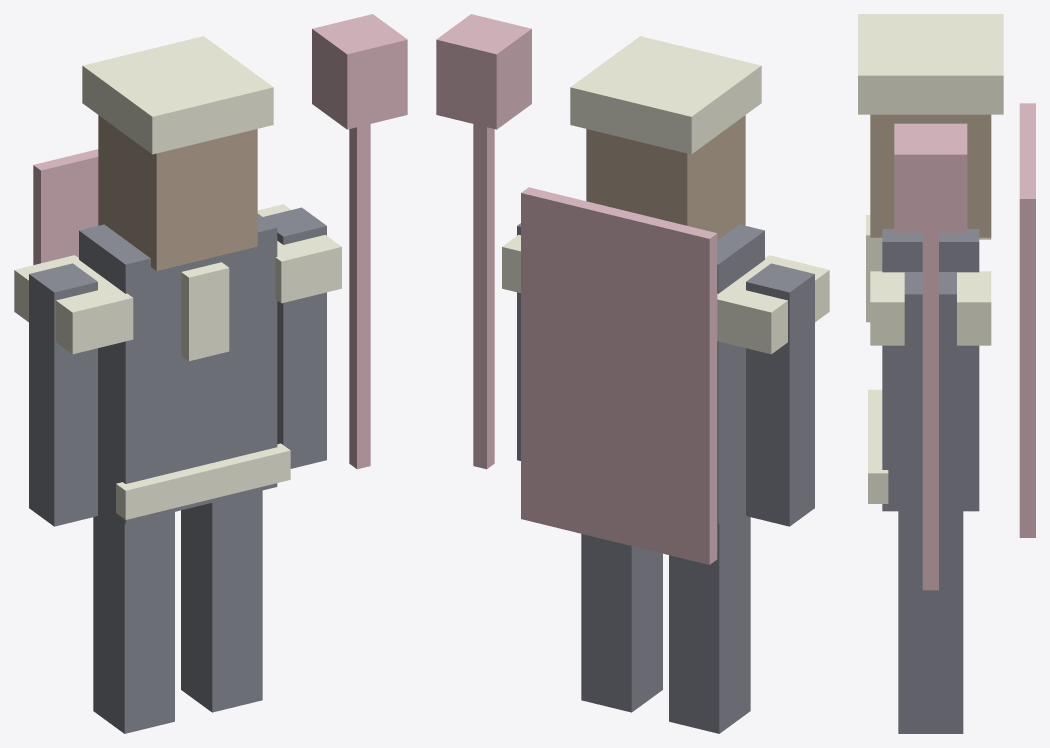
Rendered from 13_makoa_nullborne_scout_at_upper.glb.
3 renders of one model, left to right at view 1: azimuth 30°, elevation 25°; view 2: azimuth 150°, elevation 25°; view 3: azimuth 270°, elevation 25°, orthographic. The views are drawn at different scales.
Parts seen in each view (by area): view 1: Makoa Nullborne, Scout at Upper; view 2: Makoa Nullborne, Scout at Upper; view 3: Makoa Nullborne, Scout at Upper.
Part boxes in pixels (x1=…): Makoa Nullborne, Scout at Upper: x1=14, y1=14, x2=407, y2=733; Makoa Nullborne, Scout at Upper: x1=436, y1=14, x2=829, y2=733; Makoa Nullborne, Scout at Upper: x1=858, y1=14, x2=1035, y2=733.
Bounding box in the file's own units: 0.9835 × 1.7 × 0.4181.
